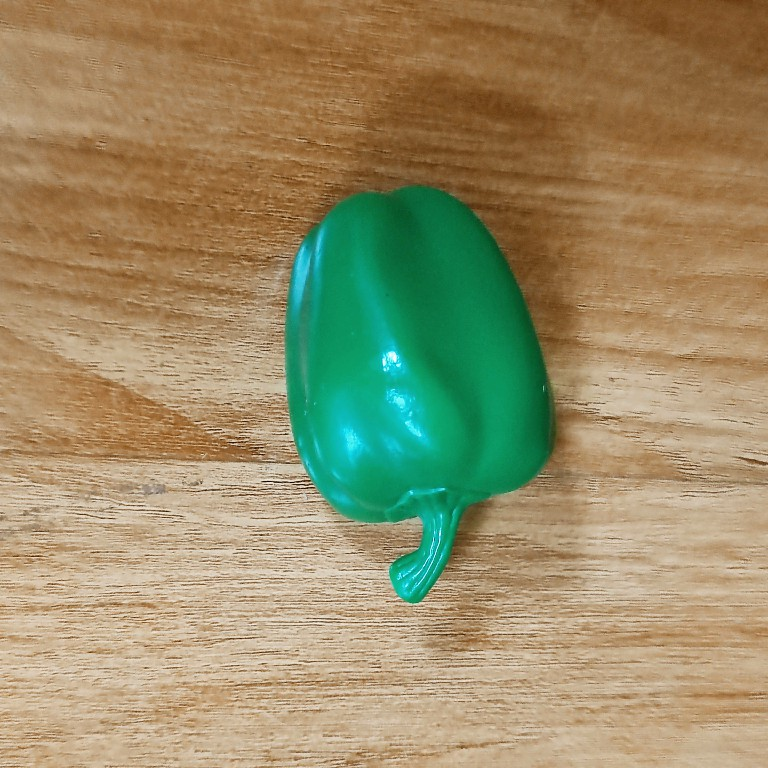fruit_pepper: (280, 179, 561, 609)
